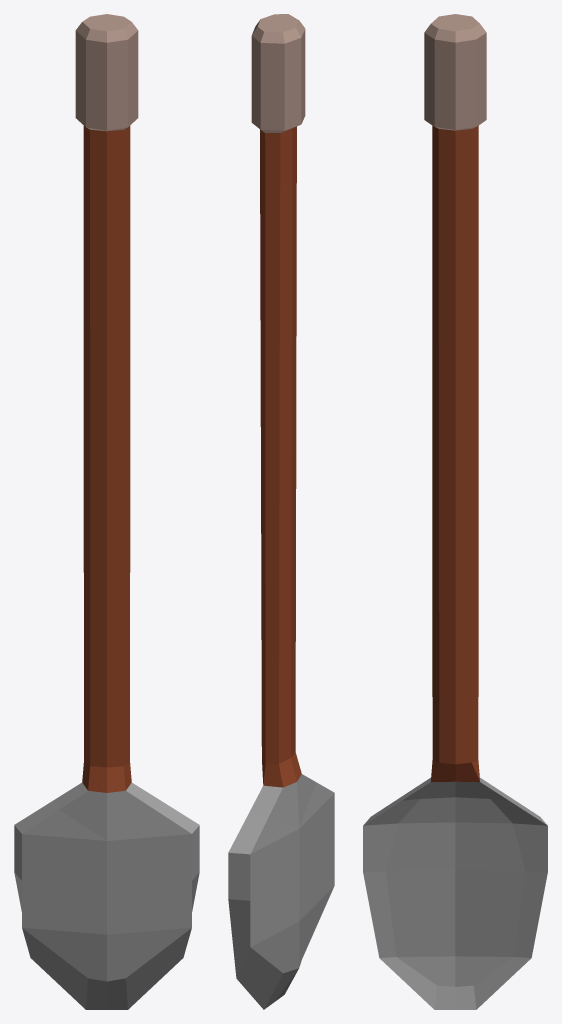
The model's file is shovel.fbx.
The picture shows the model from 3 angles, left to right: view 1: azimuth 90°, elevation 25°; view 2: azimuth 150°, elevation 25°; view 3: azimuth 270°, elevation 25°; orthographic projection.
Visible parts, largest first — view 1: shovel; view 2: shovel; view 3: shovel.
Boxes of the visible parts, x1,y1,x2,y2 form: shovel: (14, 14, 199, 1009); shovel: (228, 14, 334, 1009); shovel: (363, 14, 547, 1009).
Bounding box in the file's own units: 27.52 × 559 × 95.04.
